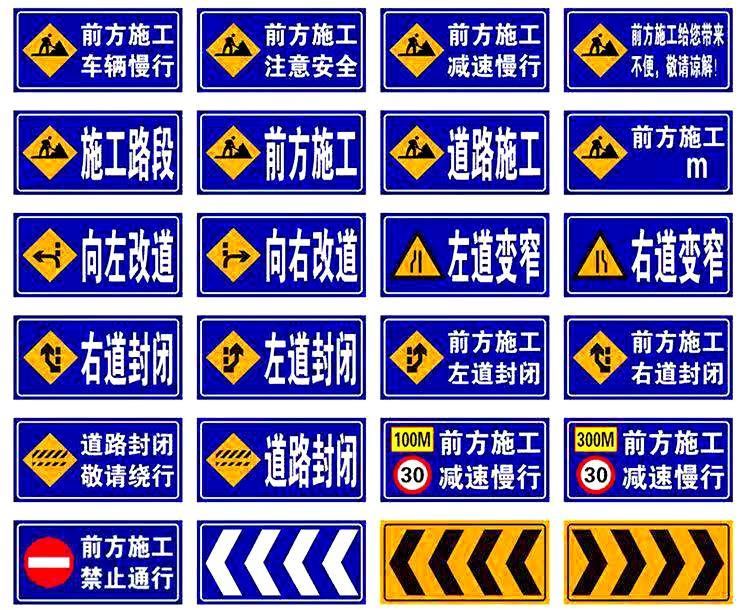sign: (381, 10, 550, 93), (15, 9, 182, 92), (565, 111, 733, 193), (199, 9, 365, 91), (15, 213, 179, 296), (201, 316, 365, 399), (198, 111, 364, 192), (381, 111, 546, 192), (12, 112, 179, 192), (568, 214, 732, 295), (565, 11, 731, 91), (13, 316, 179, 396), (386, 214, 547, 296), (382, 523, 549, 602), (16, 520, 179, 600), (568, 522, 731, 602), (200, 523, 364, 602), (567, 317, 731, 396), (15, 420, 180, 498), (382, 420, 547, 498), (199, 214, 361, 293), (384, 318, 548, 396), (199, 422, 362, 499), (566, 420, 730, 496)
